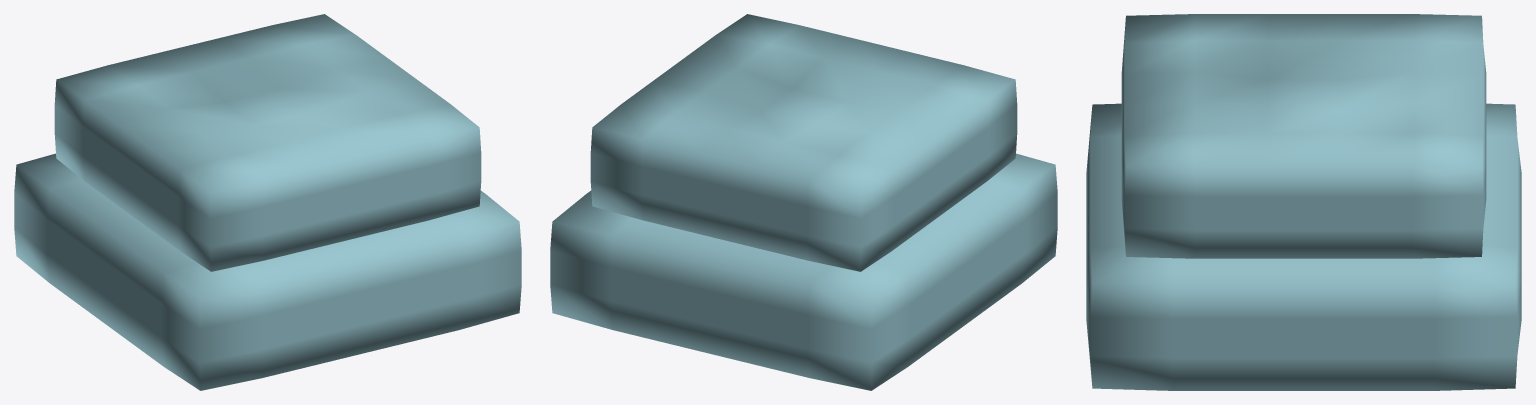
File: alloy_titanium_alloy_web.glb
3 renders of one model, left to right at view 1: azimuth 30°, elevation 25°; view 2: azimuth 150°, elevation 25°; view 3: azimuth 270°, elevation 25°, orthographic. The views are drawn at different scales.
Parts seen in each view (by area): view 1: alloy_titanium_alloy; view 2: alloy_titanium_alloy; view 3: alloy_titanium_alloy.
Boxes of the visible parts, <box> form: alloy_titanium_alloy: <box>14,14,521,390</box>; alloy_titanium_alloy: <box>550,14,1057,390</box>; alloy_titanium_alloy: <box>1086,14,1521,390</box>.
Bounding box in the file's own units: 1 × 0.5515 × 1.
